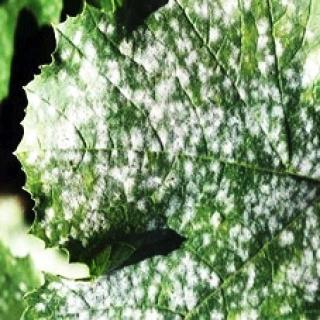grey mildew: (15, 8, 320, 320)
